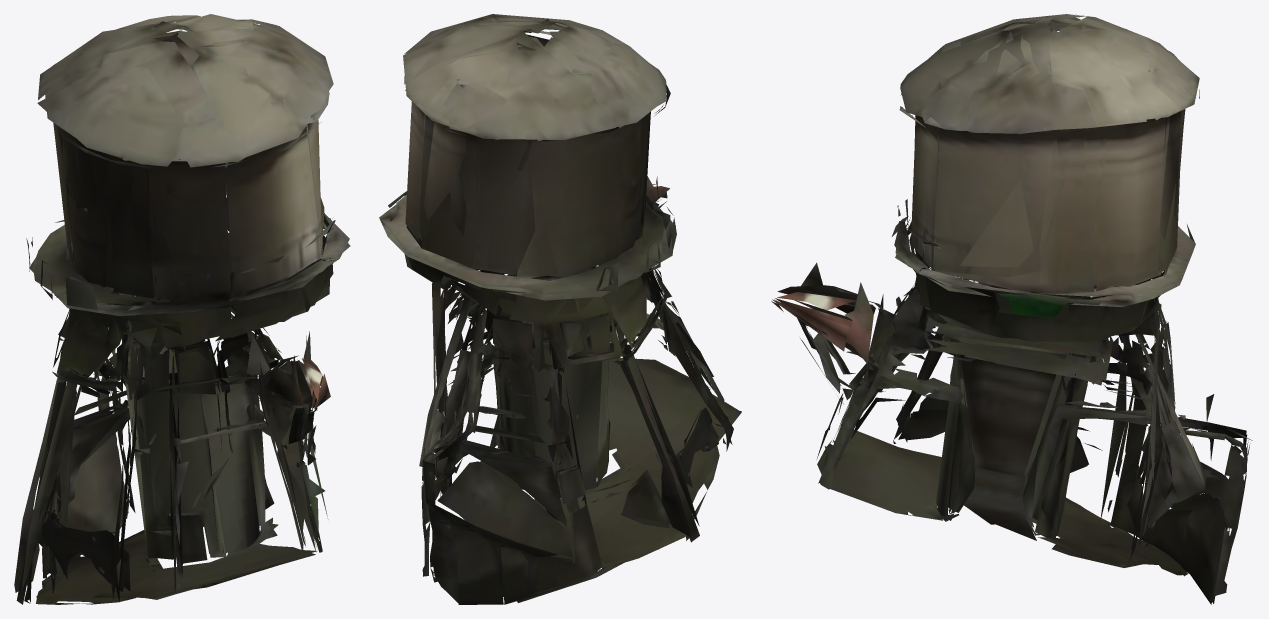
The model's file is felucia-water-tower.lo.glb.
The picture shows the model from 3 angles, left to right: view 1: azimuth 30°, elevation 25°; view 2: azimuth 150°, elevation 25°; view 3: azimuth 270°, elevation 25°; orthographic projection. The views are drawn at different scales.
Parts seen in each view (by area): view 1: low; view 2: low; view 3: low.
Boxes of the visible parts, x1,y1,x2,y2 form: low: (14, 14, 350, 604); low: (379, 14, 741, 604); low: (771, 14, 1252, 604).
Size of the model in its own units: 0.4988 by 0.8932 by 0.6758.
1 material, 1 textured.
